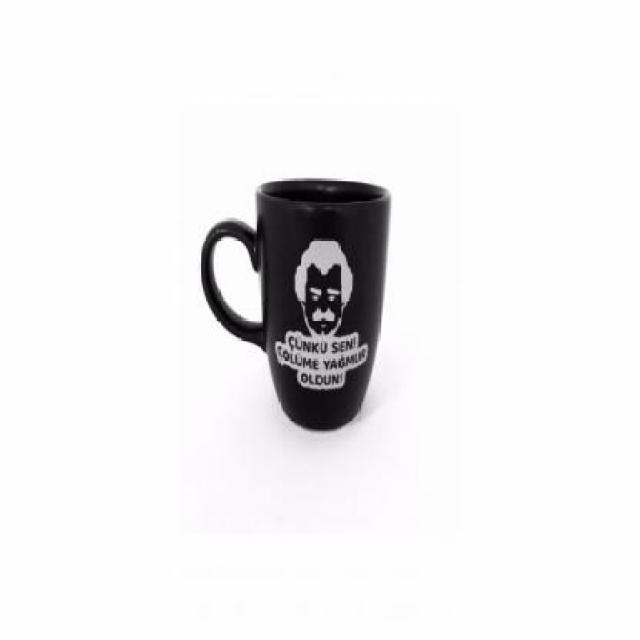taza: (199, 176, 393, 437)
